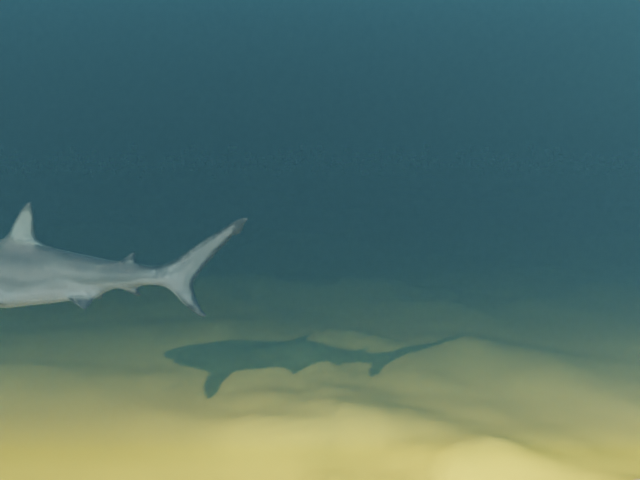Carribean Shark.001: (0, 201, 248, 337)
